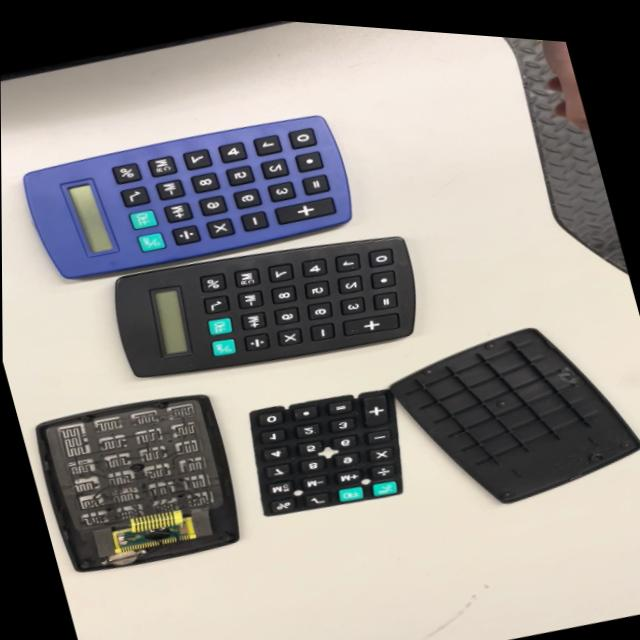back_cover: (383, 296, 640, 535)
calculator: (11, 76, 370, 313), (96, 196, 449, 418)
front_panel: (27, 372, 254, 594)
number_pad: (233, 373, 425, 538)
